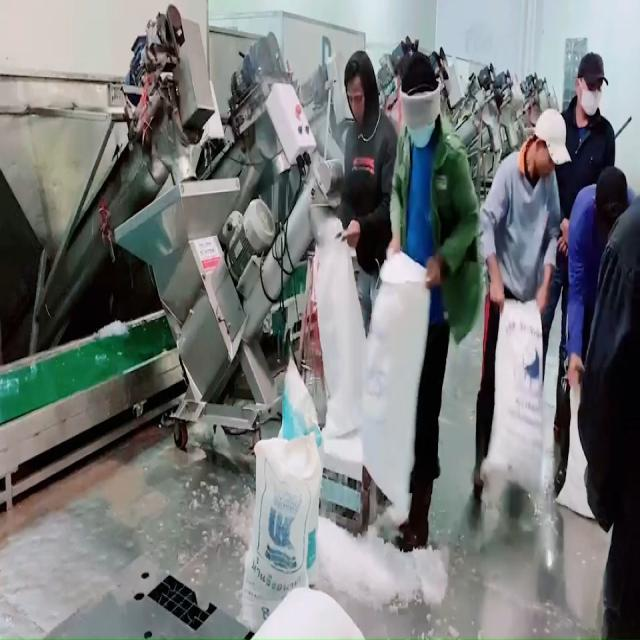ice-bag: (293, 217, 372, 448), (370, 243, 429, 525), (251, 435, 323, 630), (488, 298, 547, 489)
